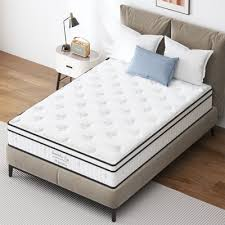bed-matress: (7, 55, 216, 189)
